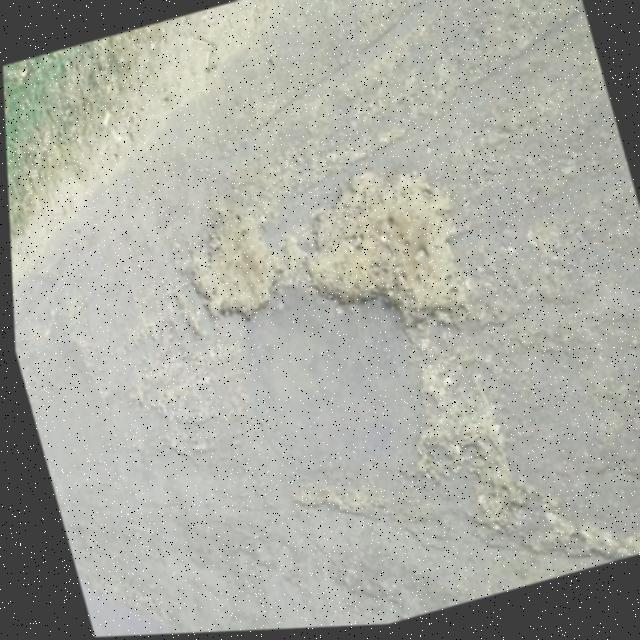pothole: (264, 130, 490, 363), (146, 172, 298, 353)
